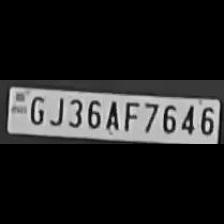3: (66, 96, 82, 128)
4: (176, 103, 196, 135)
6: (82, 97, 102, 129), (196, 104, 216, 136), (158, 102, 176, 134)
7: (138, 99, 158, 133)
A: (102, 98, 120, 132)
F: (120, 98, 138, 132)
G: (25, 93, 45, 125)
J: (47, 94, 65, 126)
